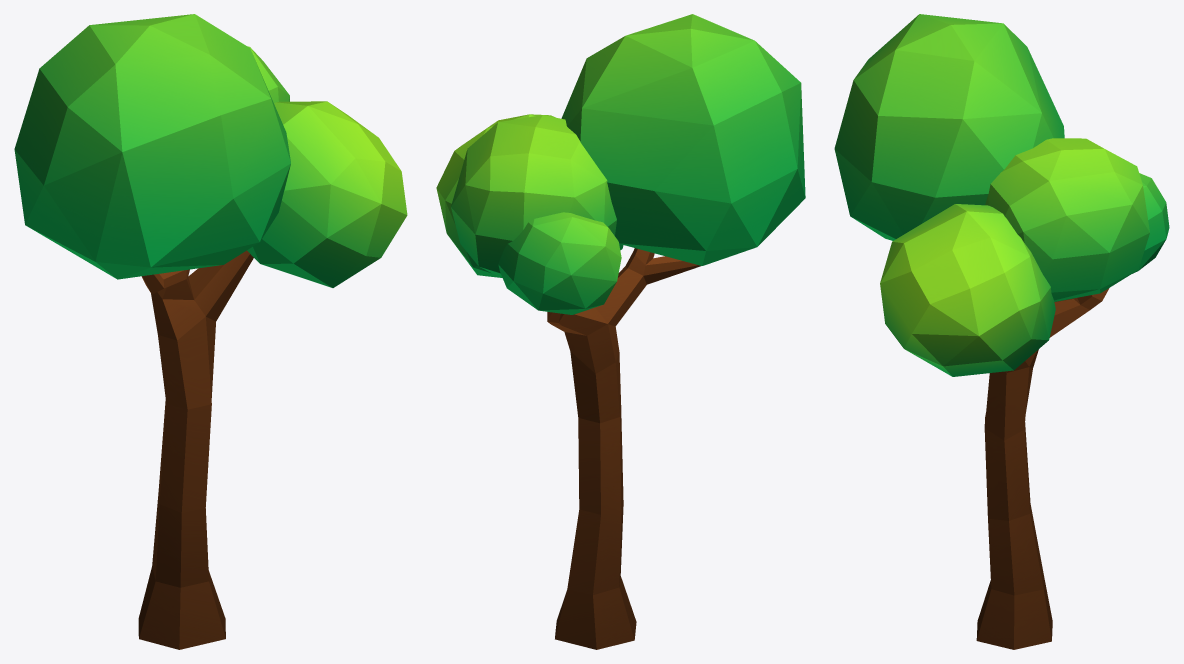
File: Tree3.fbx
3 views of the same model, side by side, from view 1: azimuth 30°, elevation 25°; view 2: azimuth 150°, elevation 25°; view 3: azimuth 270°, elevation 25° (orthographic). The views are drawn at different scales.
Parts seen in each view (by area): view 1: tree_B1; view 2: tree_B1; view 3: tree_B1.
Part boxes in pixels (left/top/right/bottom): tree_B1: left=14, top=14, right=407, bottom=649; tree_B1: left=436, top=14, right=805, bottom=649; tree_B1: left=834, top=14, right=1169, bottom=649.
Size of the model in its own units: 175 by 295 by 155.
